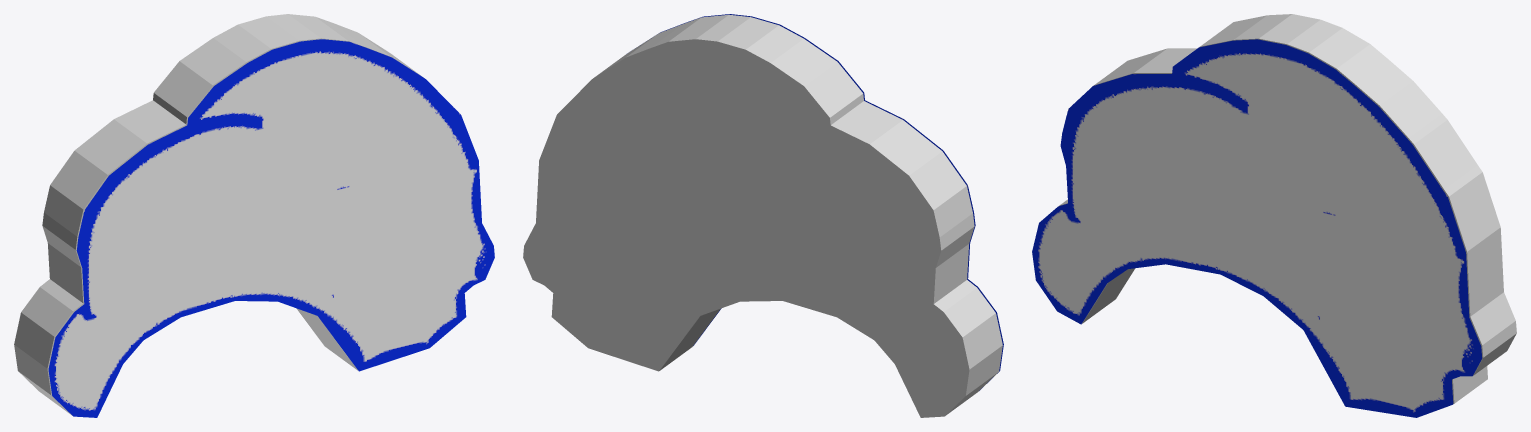
The picture shows the model from 3 angles, left to right: view 1: azimuth 30°, elevation 25°; view 2: azimuth 150°, elevation 25°; view 3: azimuth 330°, elevation 25°; orthographic projection.
Visible parts, largest first — view 1: In_1_1, In_1_0; view 2: In_1_0, In_1_1; view 3: In_1_1, In_1_0.
Boxes of the visible parts, x1,y1,x2,y2 form: In_1_1: (48, 39, 494, 417); In_1_0: (14, 14, 423, 415); In_1_0: (523, 14, 1002, 417); In_1_1: (660, 14, 1003, 390); In_1_1: (1032, 39, 1482, 417); In_1_0: (1059, 14, 1516, 403).
Bounding box in the file's own units: 3.86 × 2.85 × 0.515.
2 materials, 1 textured.
